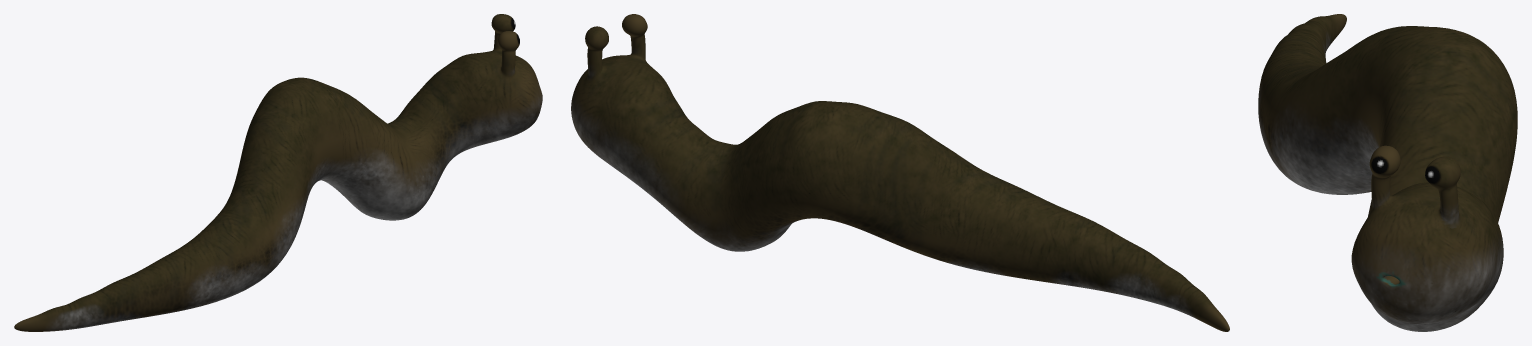
The model's file is Schnecken.fbx.
3 renders of one model, left to right at view 1: azimuth 30°, elevation 25°; view 2: azimuth 150°, elevation 25°; view 3: azimuth 270°, elevation 25°, orthographic. The views are drawn at different scales.
Parts seen in each view (by area): view 1: Schnecke; view 2: Schnecke; view 3: Schnecke.
Boxes of the visible parts, x1,y1,x2,y2 form: Schnecke: [14, 14, 542, 331]; Schnecke: [571, 14, 1229, 331]; Schnecke: [1258, 14, 1517, 331].
Size of the model in its own units: 1.09 by 0.3226 by 0.2975.
